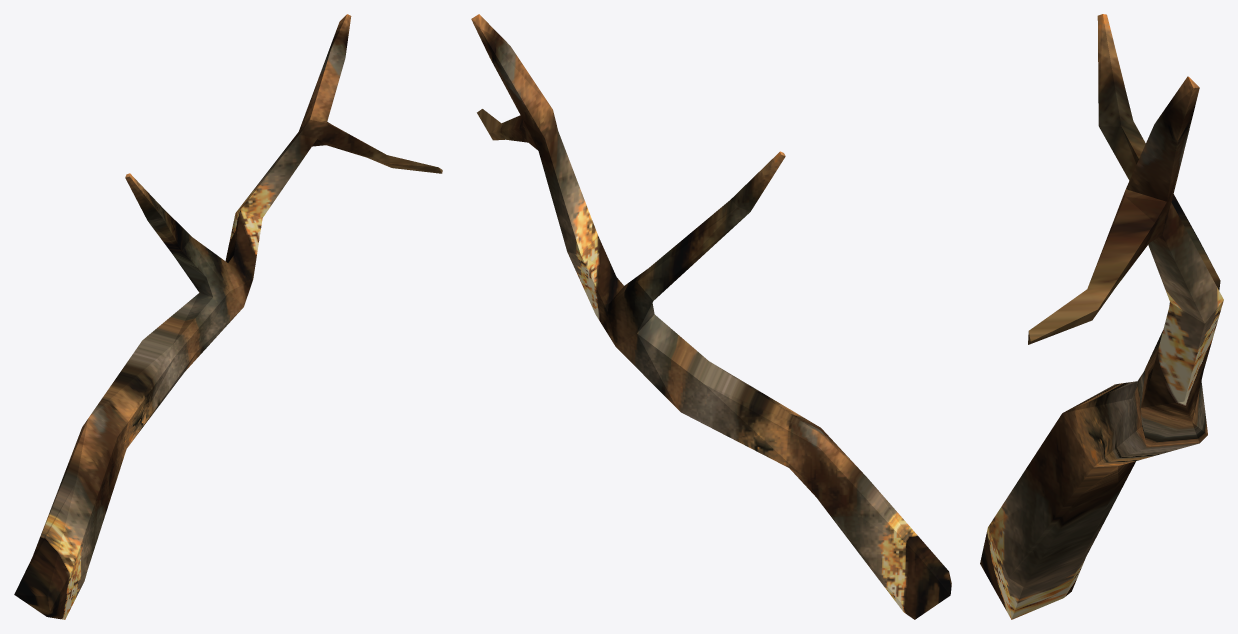
File: Island_2_Tree_1.gltf
The picture shows the model from 3 angles, left to right: view 1: azimuth 30°, elevation 25°; view 2: azimuth 150°, elevation 25°; view 3: azimuth 270°, elevation 25°; orthographic projection. The views are drawn at different scales.
Visible parts, largest first — view 1: Island_2_Tree_1; view 2: Island_2_Tree_1; view 3: Island_2_Tree_1.
Boxes of the visible parts, <box> form: Island_2_Tree_1: <box>14,14,442,619</box>; Island_2_Tree_1: <box>471,14,951,619</box>; Island_2_Tree_1: <box>980,14,1223,619</box>.
Bounding box in the file's own units: 4.47 × 4.88 × 1.32.
Materials: 1 (1 with a texture image).
